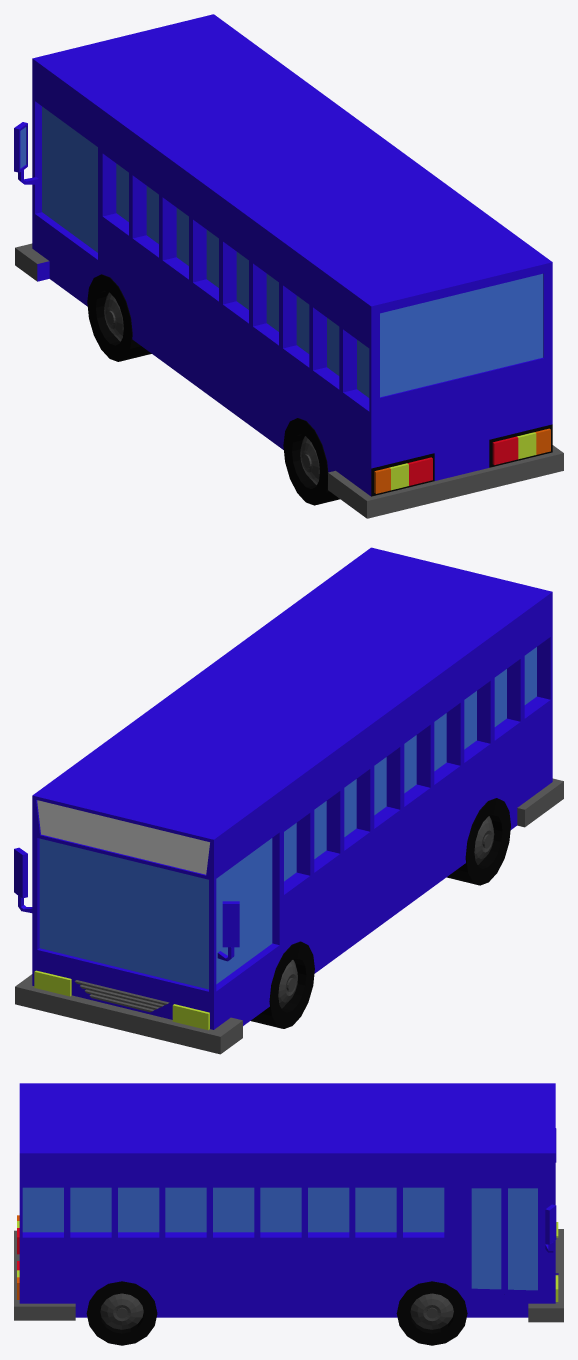
File: bus_1.fbx
The picture shows the model from 3 angles, top to bottom: view 1: azimuth 30°, elevation 25°; view 2: azimuth 150°, elevation 25°; view 3: azimuth 270°, elevation 25°; orthographic projection. The views are drawn at different scales.
Parts seen in each view (by area): view 1: Bus2; view 2: Bus2; view 3: Bus2.
Boxes of the visible parts, x1,y1,x2,y2 form: Bus2: (14, 14, 563, 518); Bus2: (14, 547, 563, 1054); Bus2: (14, 1083, 563, 1345).
Bounding box in the file's own units: 106 × 109 × 283.
